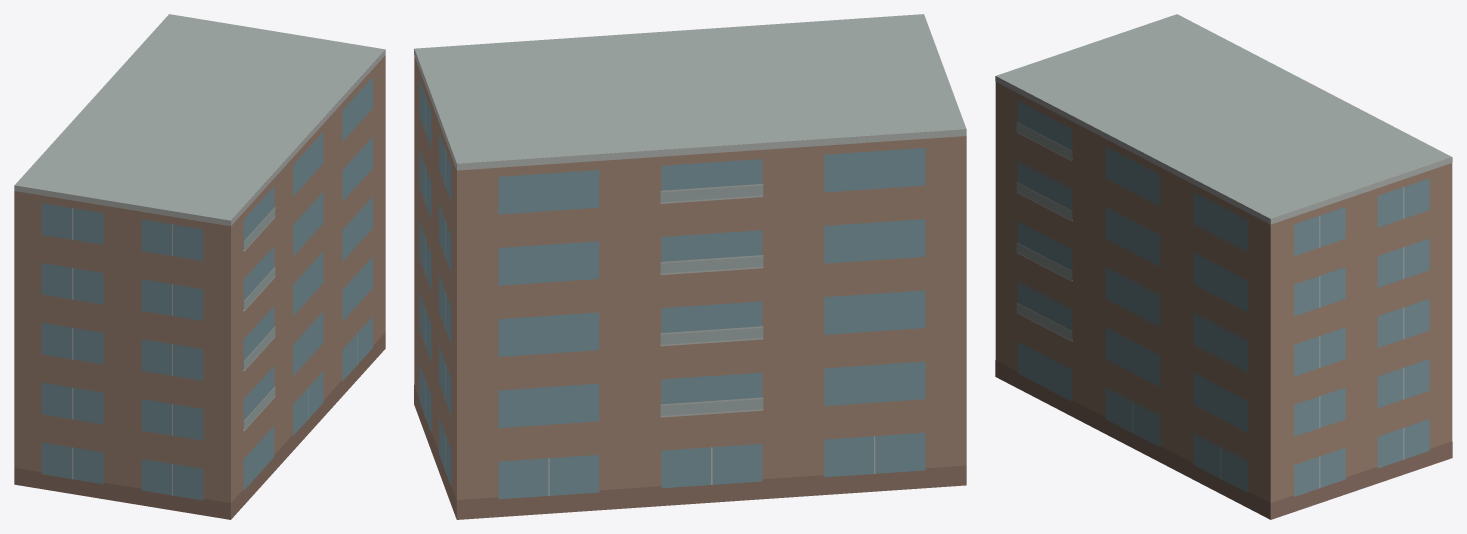
The model's file is survey-upis-33009723.glb.
The picture shows the model from 3 angles, left to right: view 1: azimuth 30°, elevation 25°; view 2: azimuth 150°, elevation 25°; view 3: azimuth 270°, elevation 25°; orthographic projection. The views are drawn at different scales.
Visible parts, largest first — view 1: survey-upis-33009723.tmp; view 2: survey-upis-33009723.tmp; view 3: survey-upis-33009723.tmp.
Part boxes in pixels (left/top/right/bottom): survey-upis-33009723.tmp: left=14, top=14, right=385, bottom=519; survey-upis-33009723.tmp: left=414, top=14, right=966, bottom=519; survey-upis-33009723.tmp: left=995, top=14, right=1452, bottom=519.
Size of the model in its own units: 18.85 by 12.9 by 17.76.
